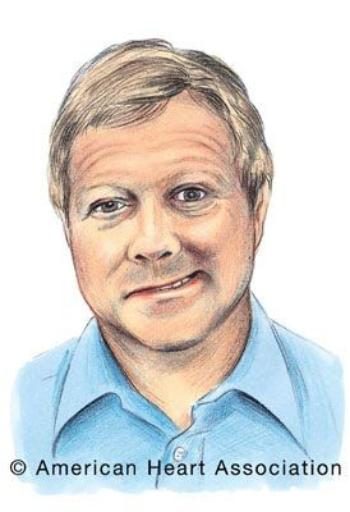left_eye: (170, 184, 213, 206)
left_lip_corner: (195, 266, 213, 287)
right_eye: (89, 195, 136, 219)
right_lip_corner: (121, 289, 135, 307)
